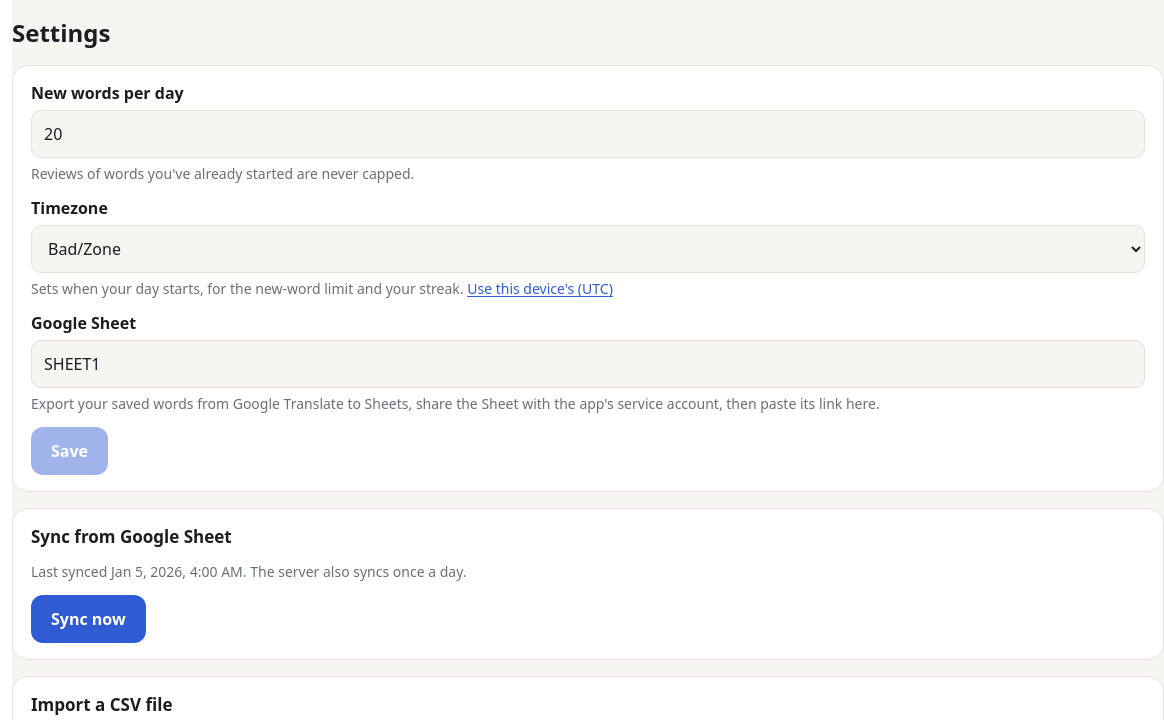
Test: SettingsScreen › checks the number locally and shows server validation messages
Step 1. Replace the text in the number field labelled "New words per day" with "2.5" → (588, 134), box [31,110,1145,158]
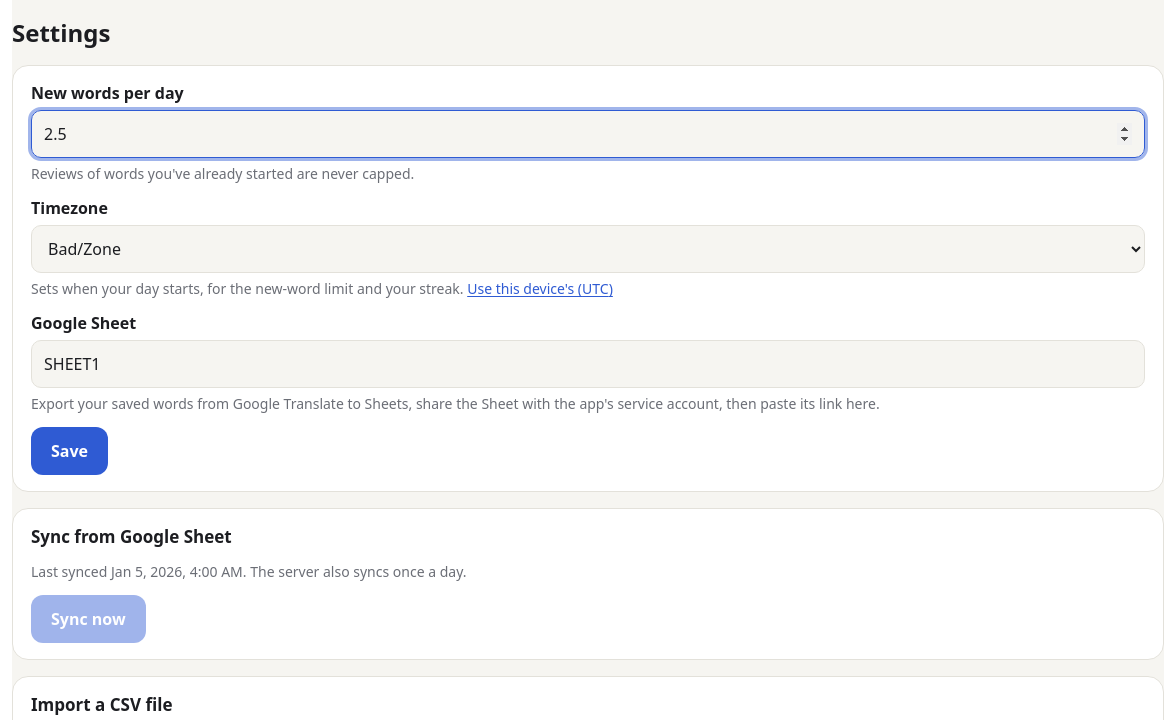
Step 2. Click the button "Save" → (70, 451), box [31,427,108,475]
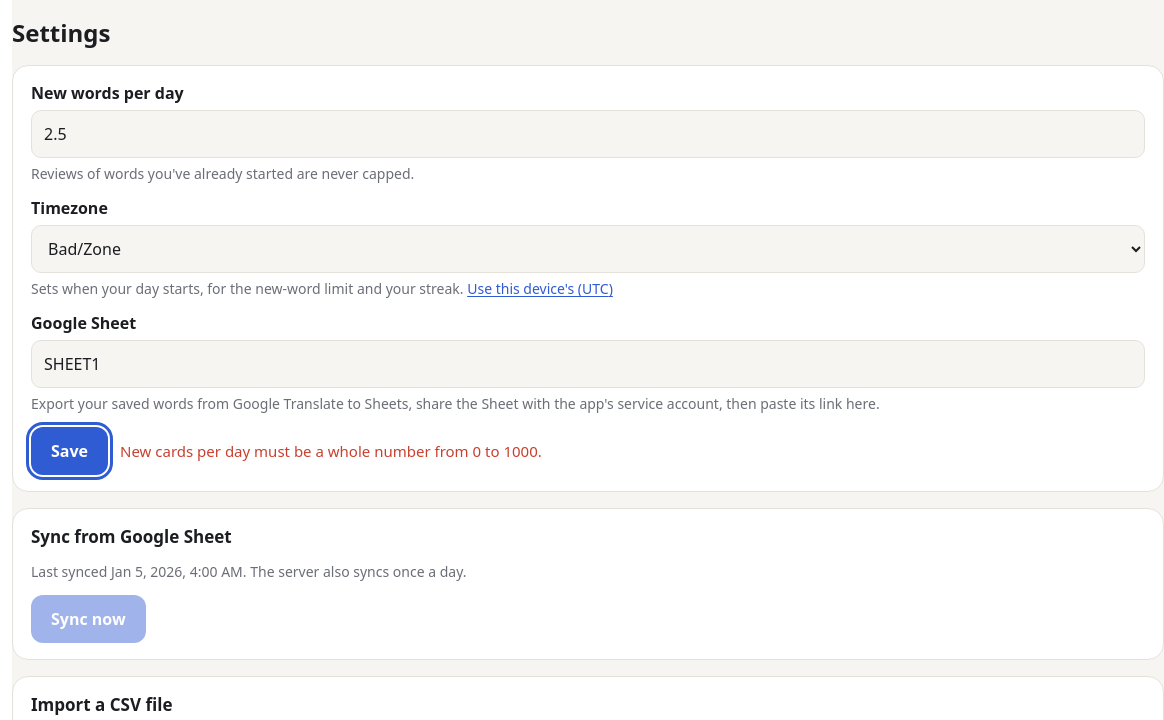
Expected: the message shows "whole number", [120,441,542,461]
Step 3. Replace the text in the number field labelled "New words per day" with "5" → (588, 134), box [31,110,1145,158]
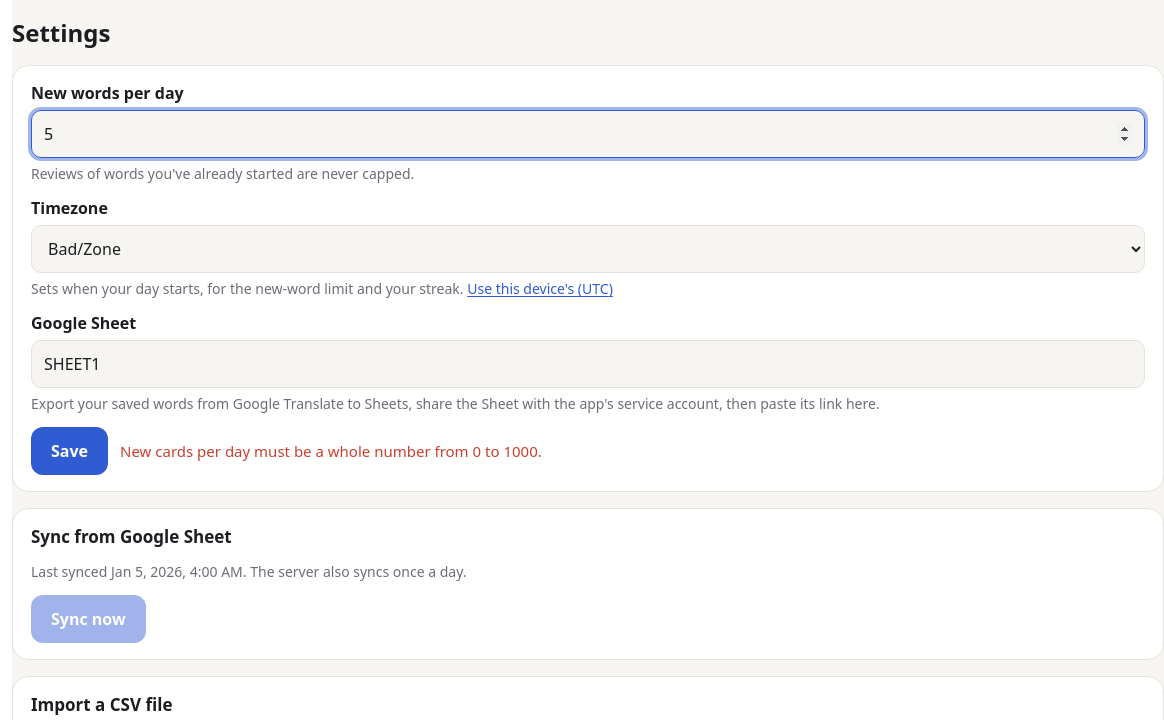
Step 4. Click the button "Save" → (70, 451), box [31,427,108,475]
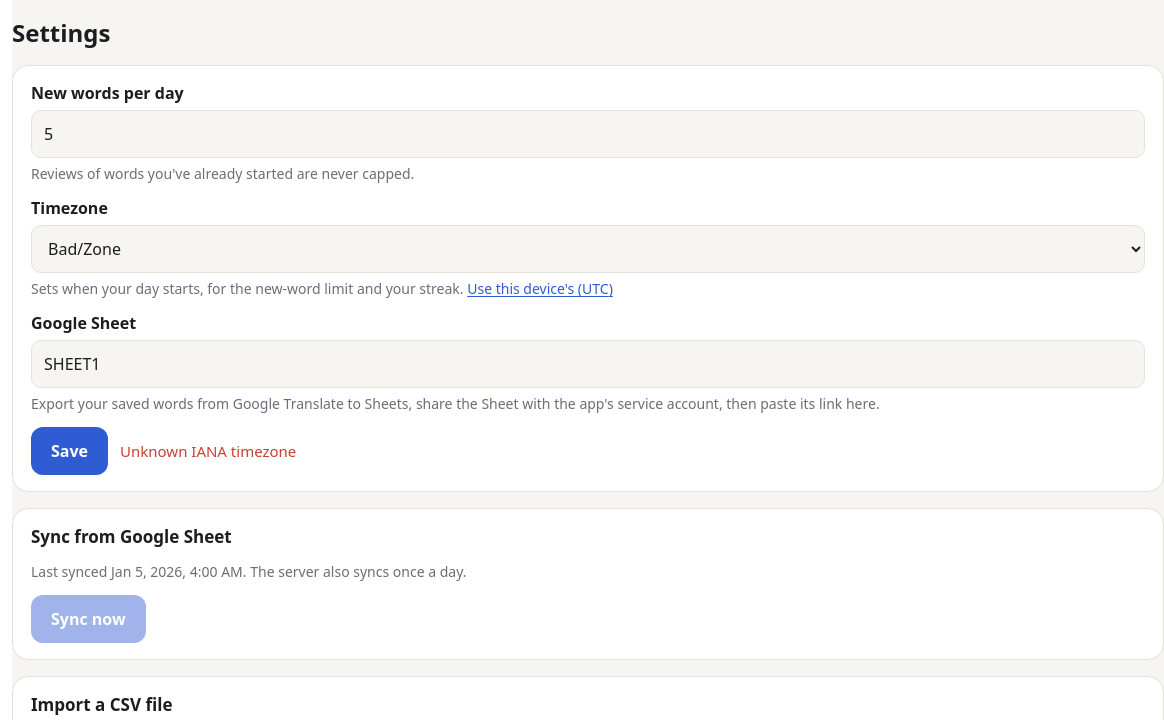
Expected: the text "Unknown IANA timezone" is shown, [120,441,296,461]
